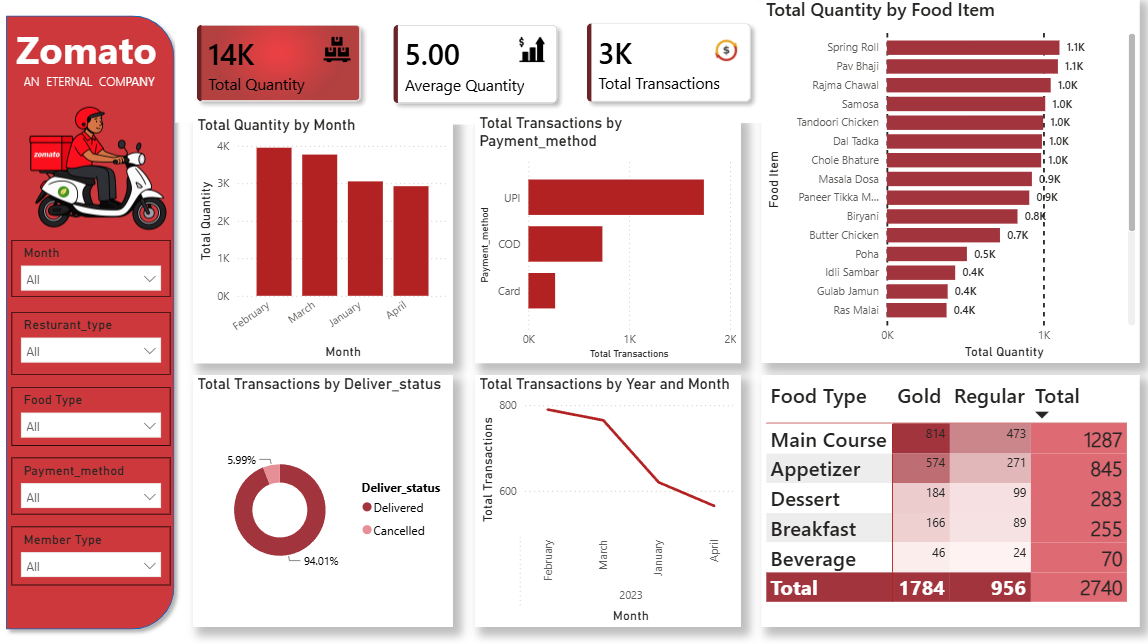

The page's visual inventory and layout, read from the dashboard file:
{"tool":"powerbi","page":{"name":"Page 1","canvas":[1280,720],"ordinal":0},"visuals":[{"type":"shape","box":[0,11.7,205,700],"z":0},{"type":"textbox","box":[530,420,295,280],"z":1000},{"type":"textbox","box":[848.3,0,420,406.7],"z":2000},{"type":"textbox","box":[848.3,420,420,280],"z":3000},{"type":"textbox","box":[530,131.7,295,275],"z":4000},{"type":"textbox","box":[216.7,420,288.3,280],"z":5000},{"type":"textbox","box":[216.7,131.7,288.3,275],"z":6000},{"type":"cardVisual","fields":{"Data":["Orders.Total Quantity"]},"box":[191.7,1.7,240,143.3],"z":7000},{"type":"cardVisual","fields":{"Data":["Orders.Average Quantity"]},"box":[410,1.7,240,145],"z":8000},{"type":"cardVisual","fields":{"Data":["Orders.Total Transactions"]},"box":[625,0,240,145],"z":9000},{"type":"clusteredBarChart","fields":{"Category":["Orders.Food Item"],"Y":["Orders.Total Quantity"]},"box":[848.3,0,420,406.7],"z":10000},{"type":"clusteredBarChart","fields":{"Category":["Orders.Payment_method"],"Y":["Orders.Total Transactions"]},"box":[530,130,295,276.7],"z":11000},{"type":"lineChart","fields":{"Category":["Orders.Year","Orders.Month"],"Y":["Orders.Total Transactions"]},"box":[530,420,295,280],"z":12000},{"type":"donutChart","fields":{"Category":["Orders.Deliver_status"],"Y":["Orders.Total Transactions"]},"box":[216.7,420,288.3,280],"z":13000},{"type":"pivotTable","fields":{"Rows":["Orders.Food Type"],"Columns":["Orders.Member Type"],"Values":["Orders.Total Transactions"]},"box":[848.3,420,420,280],"z":14000},{"type":"slicer","fields":{"Values":["Orders.Month"]},"box":[15,270,176.7,63.3],"z":15000},{"type":"slicer","fields":{"Values":["Orders.Member Type"]},"box":[15,588.3,176.7,65],"z":16000},{"type":"slicer","fields":{"Values":["Orders.Payment_method"]},"box":[15,511.7,176.7,63.3],"z":17000},{"type":"slicer","fields":{"Values":["Orders.Food Type"]},"box":[15,433.3,176.7,65],"z":18000},{"type":"slicer","fields":{"Values":["Orders.Resturant_type"]},"box":[15,350,176.7,70],"z":19000},{"type":"textbox","box":[23.3,78.3,158.3,38.3],"z":20000},{"type":"textbox","box":[15,23.3,176.7,73.3],"z":21000},{"type":"columnChart","fields":{"Y":["Orders.Total Quantity"],"Category":["Orders.Month"]},"box":[216.7,131.7,288.3,275],"z":22000},{"type":"image","box":[361.7,43.3,30,30],"z":23000},{"type":"image","box":[793.3,43.3,31.7,31.7],"z":24000},{"type":"image","box":[578.3,43.3,30,30],"z":25000},{"type":"image","box":[0,75,213.3,231.7],"z":26000}]}

Visuals, with their boxes in screenshot pixels (x1, y1, x2, y2), scaled from the page's 1280x720 canvas onto the 1148x644 screenshot:
shape: pyautogui.locateOnScreen(0, 10, 184, 637)
textbox: pyautogui.locateOnScreen(475, 376, 740, 626)
textbox: pyautogui.locateOnScreen(761, 0, 1138, 364)
textbox: pyautogui.locateOnScreen(761, 376, 1138, 626)
textbox: pyautogui.locateOnScreen(475, 118, 740, 364)
textbox: pyautogui.locateOnScreen(194, 376, 453, 626)
textbox: pyautogui.locateOnScreen(194, 118, 453, 364)
cardVisual - Orders.Total Quantity: pyautogui.locateOnScreen(172, 2, 387, 130)
cardVisual - Orders.Average Quantity: pyautogui.locateOnScreen(368, 2, 583, 131)
cardVisual - Orders.Total Transactions: pyautogui.locateOnScreen(561, 0, 776, 130)
clusteredBarChart - Orders.Food Item x Orders.Total Quantity: pyautogui.locateOnScreen(761, 0, 1138, 364)
clusteredBarChart - Orders.Payment_method x Orders.Total Transactions: pyautogui.locateOnScreen(475, 116, 740, 364)
lineChart - Orders.Year x Orders.Month: pyautogui.locateOnScreen(475, 376, 740, 626)
donutChart - Orders.Deliver_status x Orders.Total Transactions: pyautogui.locateOnScreen(194, 376, 453, 626)
pivotTable - Orders.Food Type x Orders.Member Type: pyautogui.locateOnScreen(761, 376, 1138, 626)
slicer - Orders.Month: pyautogui.locateOnScreen(13, 242, 172, 298)
slicer - Orders.Member Type: pyautogui.locateOnScreen(13, 526, 172, 584)
slicer - Orders.Payment_method: pyautogui.locateOnScreen(13, 458, 172, 514)
slicer - Orders.Food Type: pyautogui.locateOnScreen(13, 388, 172, 446)
slicer - Orders.Resturant_type: pyautogui.locateOnScreen(13, 313, 172, 376)
textbox: pyautogui.locateOnScreen(21, 70, 163, 104)
textbox: pyautogui.locateOnScreen(13, 21, 172, 86)
columnChart - Orders.Total Quantity x Orders.Month: pyautogui.locateOnScreen(194, 118, 453, 364)
image: pyautogui.locateOnScreen(324, 39, 351, 66)
image: pyautogui.locateOnScreen(711, 39, 740, 67)
image: pyautogui.locateOnScreen(519, 39, 546, 66)
image: pyautogui.locateOnScreen(0, 67, 191, 274)
